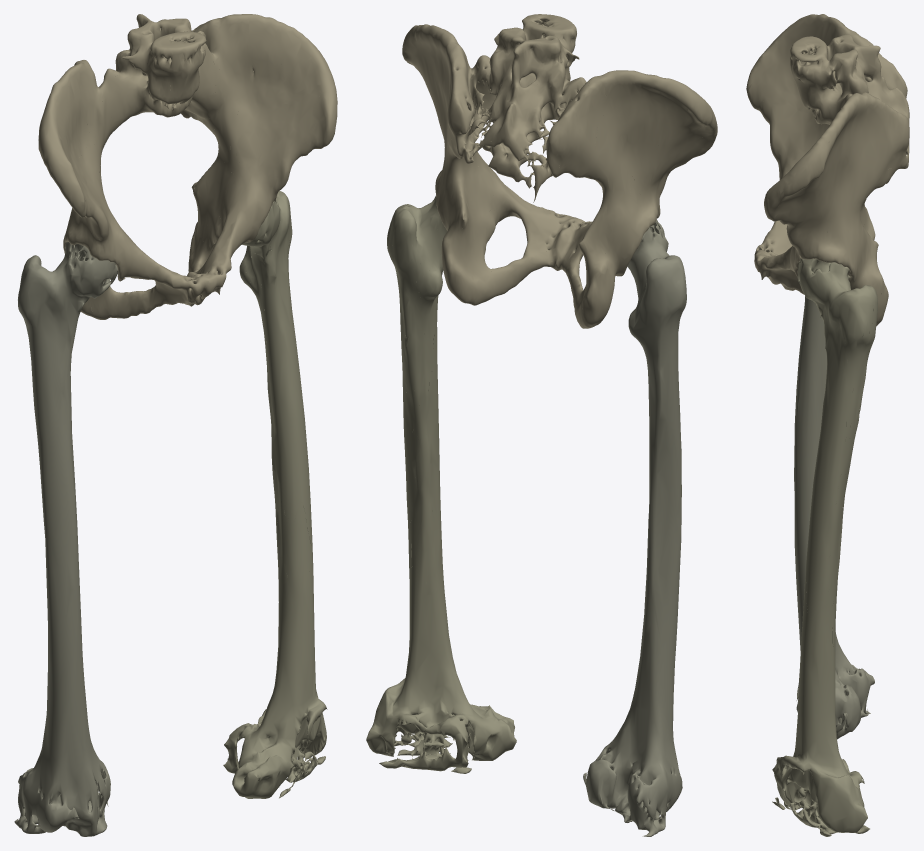
Rendered from berjalan-tegak.glb.
The picture shows the model from 3 angles, left to right: view 1: azimuth 30°, elevation 25°; view 2: azimuth 150°, elevation 25°; view 3: azimuth 270°, elevation 25°; orthographic projection. The views are drawn at different scales.
Parts seen in each view (by area): view 1: Object_7, Object_3, Object_5, Object_2, Object_4, Object_6; view 2: Object_5, Object_7, Object_2, Object_3, Object_4, Object_6; view 3: Object_5, Object_2, Object_3, Object_7, Object_6, Object_4.
Boxes of the visible parts, <box> form: Object_7: <box>14,242,118,836</box>; Object_3: <box>38,25,337,317</box>; Object_5: <box>223,190,327,798</box>; Object_2: <box>48,14,309,318</box>; Object_4: <box>38,56,337,319</box>; Object_6: <box>239,213,313,613</box>; Object_5: <box>366,196,516,773</box>; Object_7: <box>583,219,686,836</box>; Object_2: <box>402,14,675,321</box>; Object_3: <box>402,25,717,328</box>; Object_4: <box>406,46,717,328</box>; Object_6: <box>387,225,443,594</box>; Object_5: <box>772,258,877,836</box>; Object_2: <box>789,14,909,325</box>; Object_3: <box>747,14,890,303</box>; Object_7: <box>794,296,874,739</box>; Object_6: <box>800,293,877,672</box>; Object_4: <box>746,40,909,324</box>.
Bounding box in the file's own units: 272 × 658 × 134.
